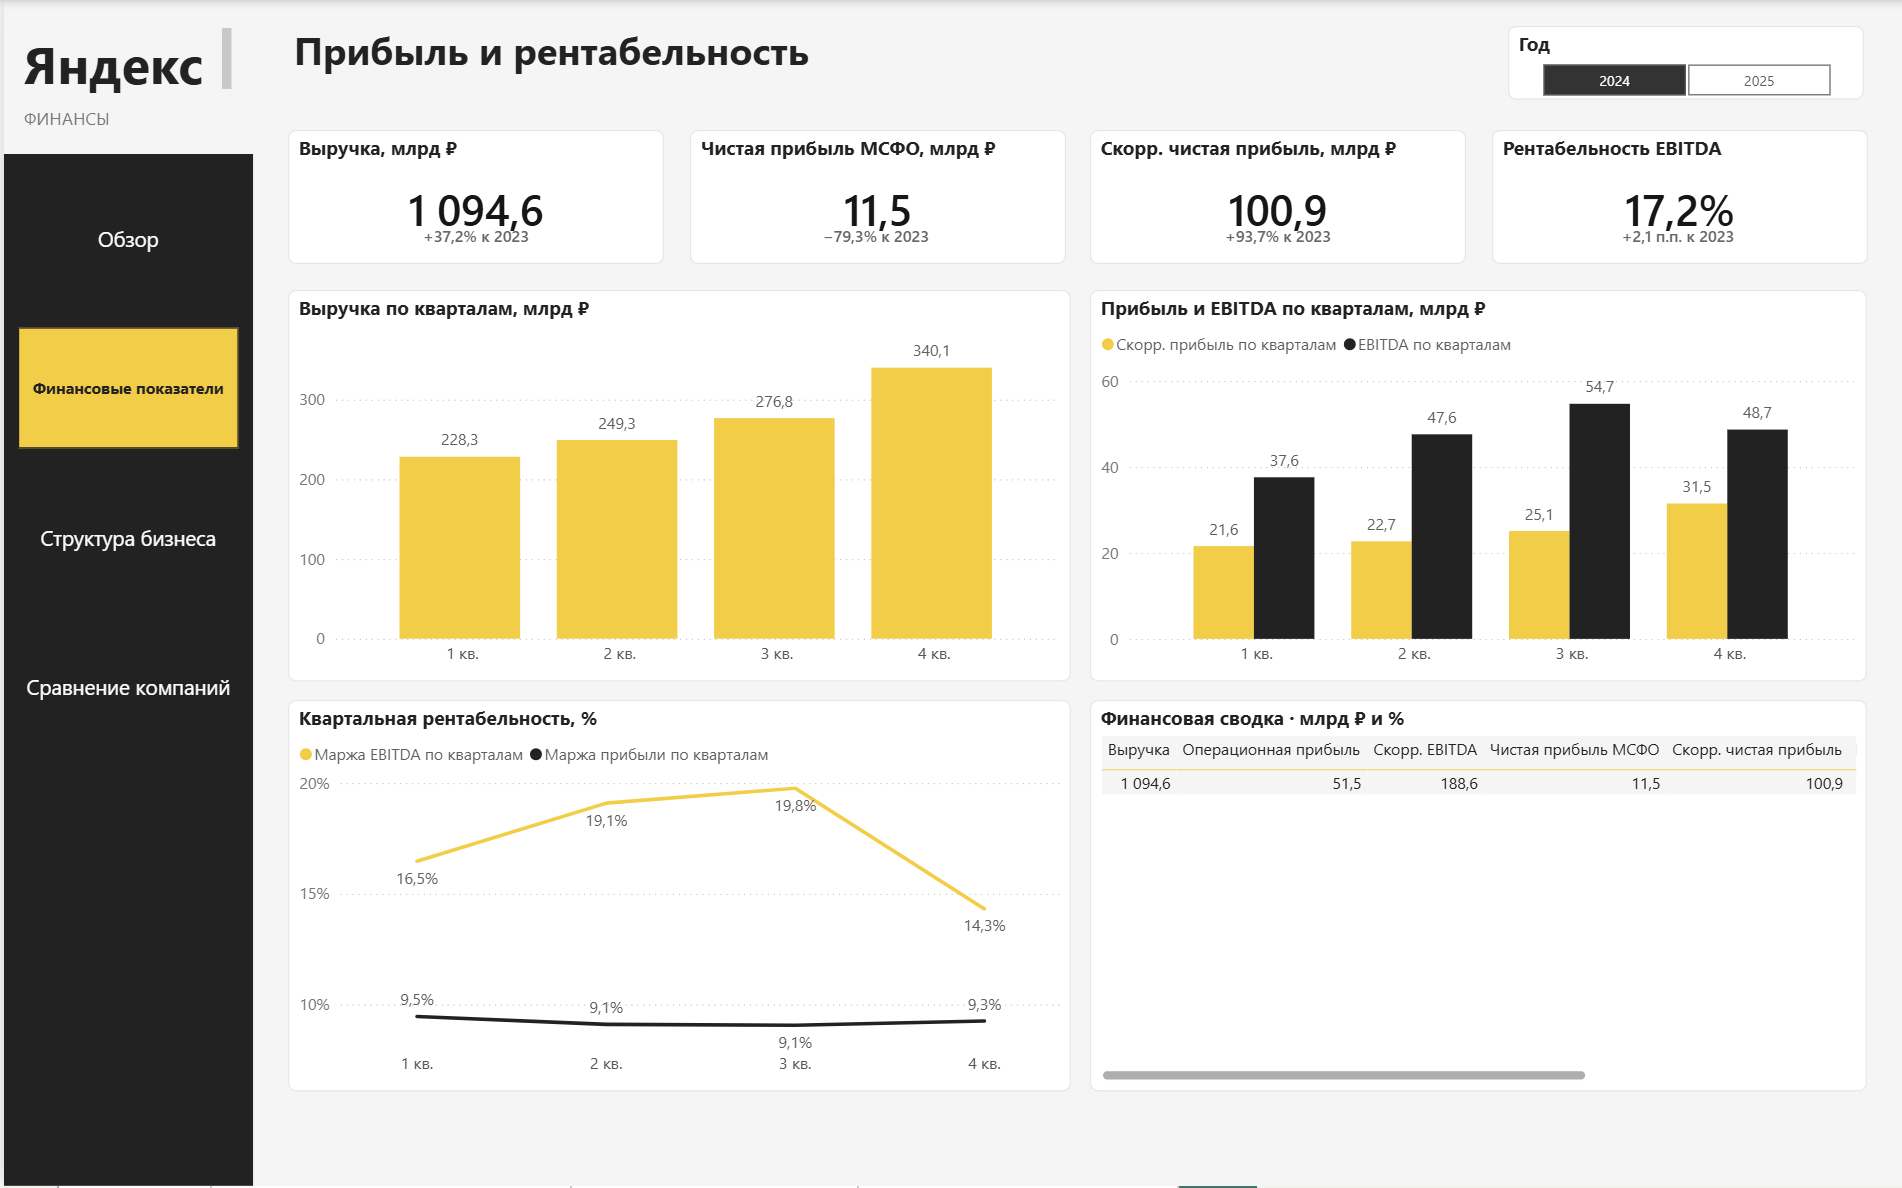

What the dashboard file says about the page in this screenshot:
{"tool":"powerbi","page":{"name":"Финансовые показатели","canvas":[1600,1000],"ordinal":1},"visuals":[{"type":"textbox","box":[12,18,185,65],"z":0},{"type":"textbox","box":[12,85,185,30],"z":1000},{"type":"textbox","box":[0,130,210,870],"z":2000},{"type":"textbox","box":[239.5,15.2,989.9,69.1],"z":3000},{"type":"slicer","title":"Год","fields":{"Values":["Period.Year"]},"box":[1268,22,300,62],"z":5000},{"type":"card","title":"Выручка, млрд ₽","fields":{"Values":["Period.Выручка"]},"box":[240,110,317,113],"z":6000},{"type":"card","fields":{"Values":["Period.Выручка · изменение"]},"box":[248,186,300,31],"z":7000},{"type":"card","title":"Чистая прибыль МСФО, млрд ₽","fields":{"Values":["Period.Чистая прибыль МСФО"]},"box":[578,110,317,113],"z":8000},{"type":"card","fields":{"Values":["Period.Чистая прибыль МСФО · изменение"]},"box":[586,186,300,31],"z":9000},{"type":"card","title":"Скорр. чистая прибыль, млрд ₽","fields":{"Values":["Period.Скорр. чистая прибыль"]},"box":[916,110,317,113],"z":10000},{"type":"card","fields":{"Values":["Period.Скорр. чистая прибыль · изменение"]},"box":[924,186,300,31],"z":11000},{"type":"card","title":"Рентабельность EBITDA","fields":{"Values":["Period.Рентабельность EBITDA"]},"box":[1254,110,317,113],"z":12000},{"type":"card","fields":{"Values":["Period.Маржа · изменение"]},"box":[1262,186,300,31],"z":13000},{"type":"clusteredColumnChart","title":"Выручка по кварталам, млрд ₽","fields":{"Category":["Quarterly.Quarter"],"Y":["Period.Выручка по кварталам"]},"box":[240,244,660,330],"z":14000},{"type":"clusteredColumnChart","title":"Прибыль и EBITDA по кварталам, млрд ₽","fields":{"Category":["Quarterly.Quarter"],"Y":["Period.Скорр. прибыль по кварталам","Period.EBITDA по кварталам"]},"box":[916,244,655,330],"z":15000},{"type":"lineChart","title":"Квартальная рентабельность, %","fields":{"Category":["Quarterly.Quarter"],"Y":["Period.Маржа EBITDA по кварталам","Period.Маржа прибыли по кварталам"]},"box":[240,590,660,330],"z":16000},{"type":"tableEx","title":"Финансовая сводка · млрд ₽ и %","fields":{"Values":["Period.Выручка","Period.Операционная прибыль","Period.Скорр. EBITDA","Period.Чистая прибыль МСФО","Period.Скорр. чистая прибыль","Period.Рентабельность МСФО","Period.Рентабельность скорр. прибыли"]},"box":[916,590,655,330],"z":17000},{"type":"textbox","box":[240,937,1325,45],"z":18000},{"type":"pageNavigator","box":[12,150,186,480],"z":19000}]}

Visuals, with their boxes in screenshot pixels (x1, y1, x2, y2), scaled from the page's 1600x1000 canvas onto the 1902x1188 screenshot:
textbox: [x1=14, y1=21, x2=234, y2=99]
textbox: [x1=14, y1=101, x2=234, y2=137]
textbox: [x1=0, y1=154, x2=250, y2=1187]
textbox: [x1=285, y1=18, x2=1461, y2=100]
"Год" slicer: [x1=1507, y1=26, x2=1864, y2=100]
"Выручка, млрд ₽" card: [x1=285, y1=131, x2=662, y2=265]
card - Period.Выручка · изменение: [x1=295, y1=221, x2=651, y2=258]
"Чистая прибыль МСФО, млрд ₽" card: [x1=687, y1=131, x2=1064, y2=265]
card - Period.Чистая прибыль МСФО · изменение: [x1=697, y1=221, x2=1053, y2=258]
"Скорр. чистая прибыль, млрд ₽" card: [x1=1089, y1=131, x2=1466, y2=265]
card - Period.Скорр. чистая прибыль · изменение: [x1=1098, y1=221, x2=1455, y2=258]
"Рентабельность EBITDA" card: [x1=1491, y1=131, x2=1868, y2=265]
card - Period.Маржа · изменение: [x1=1500, y1=221, x2=1857, y2=258]
"Выручка по кварталам, млрд ₽" clusteredColumnChart: [x1=285, y1=290, x2=1070, y2=682]
"Прибыль и EBITDA по кварталам, млрд ₽" clusteredColumnChart: [x1=1089, y1=290, x2=1868, y2=682]
"Квартальная рентабельность, %" lineChart: [x1=285, y1=701, x2=1070, y2=1093]
"Финансовая сводка · млрд ₽ и %" tableEx: [x1=1089, y1=701, x2=1868, y2=1093]
textbox: [x1=285, y1=1113, x2=1860, y2=1167]
pageNavigator: [x1=14, y1=178, x2=235, y2=748]
